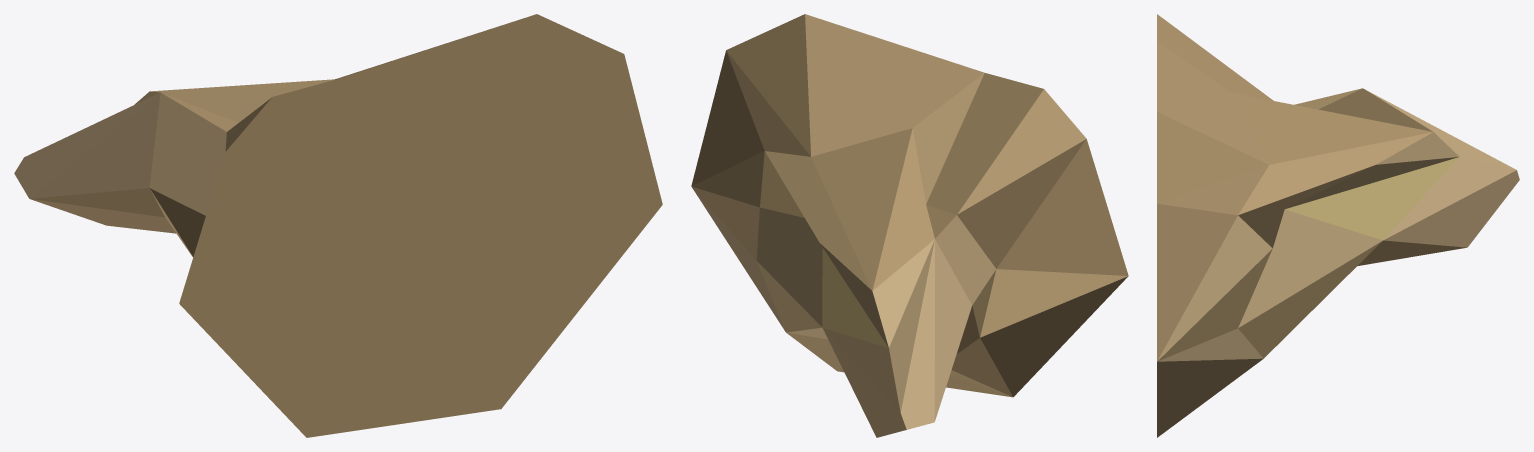
File: desert_rock_1.fbx
3 views of the same model, side by side, from view 1: azimuth 30°, elevation 25°; view 2: azimuth 150°, elevation 25°; view 3: azimuth 270°, elevation 25° (orthographic). The views are drawn at different scales.
Parts seen in each view (by area): view 1: desert_rock_1; view 2: desert_rock_1; view 3: desert_rock_1.
Boxes of the visible parts, box(x1,y1,x2,y2) form: desert_rock_1: box(14, 14, 662, 437); desert_rock_1: box(691, 14, 1128, 437); desert_rock_1: box(1157, 14, 1519, 437).
Size of the model in its own units: 346 by 264 by 254.
